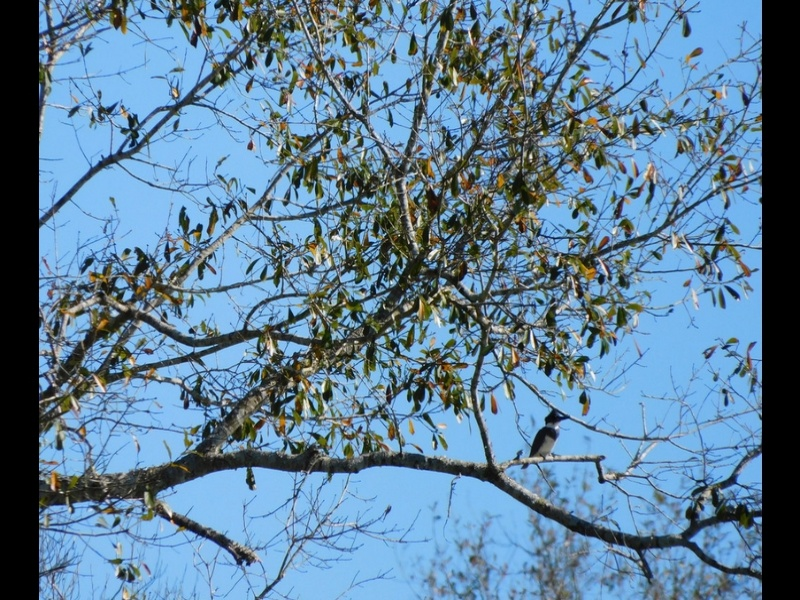kingfisher: (525, 407, 570, 468)
